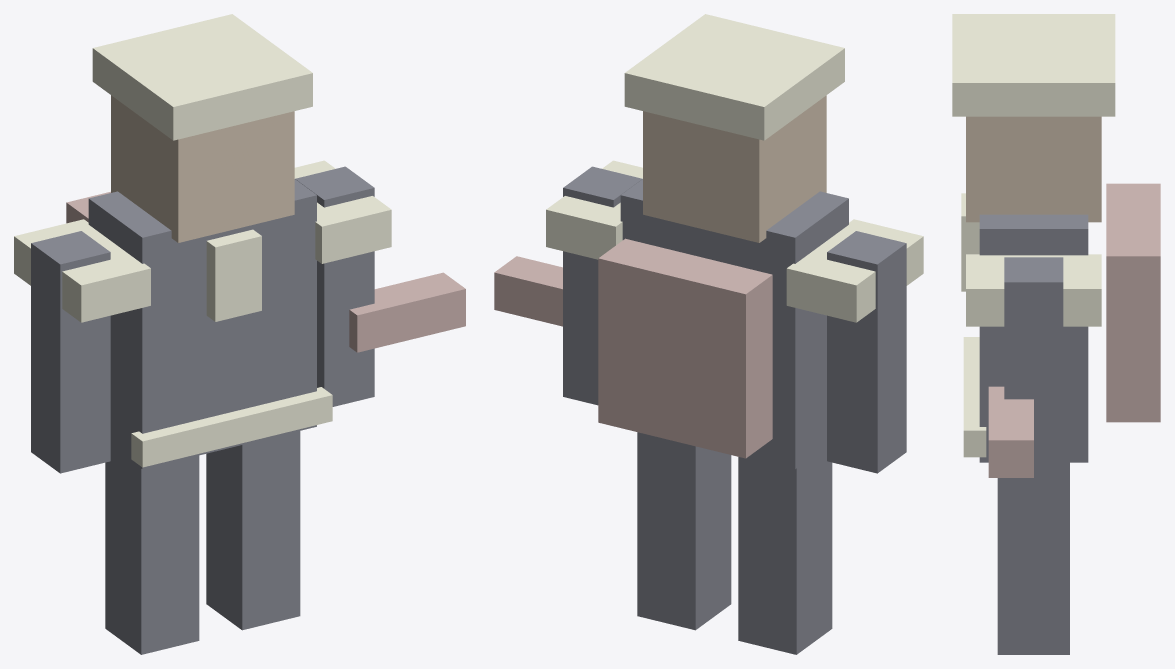
The model's file is 15_bryn_frostrelay_diver_from_customs.glb.
3 renders of one model, left to right at view 1: azimuth 30°, elevation 25°; view 2: azimuth 150°, elevation 25°; view 3: azimuth 270°, elevation 25°, orthographic.
Visible parts, largest first — view 1: Bryn Frostrelay, Diver from Customs; view 2: Bryn Frostrelay, Diver from Customs; view 3: Bryn Frostrelay, Diver from Customs.
Boxes of the visible parts, bbox=[...] form: Bryn Frostrelay, Diver from Customs: bbox=[14, 14, 465, 654]; Bryn Frostrelay, Diver from Customs: bbox=[494, 14, 923, 654]; Bryn Frostrelay, Diver from Customs: bbox=[952, 14, 1160, 654].
Size of the model in its own units: 1.03 by 1.39 by 0.4622.
